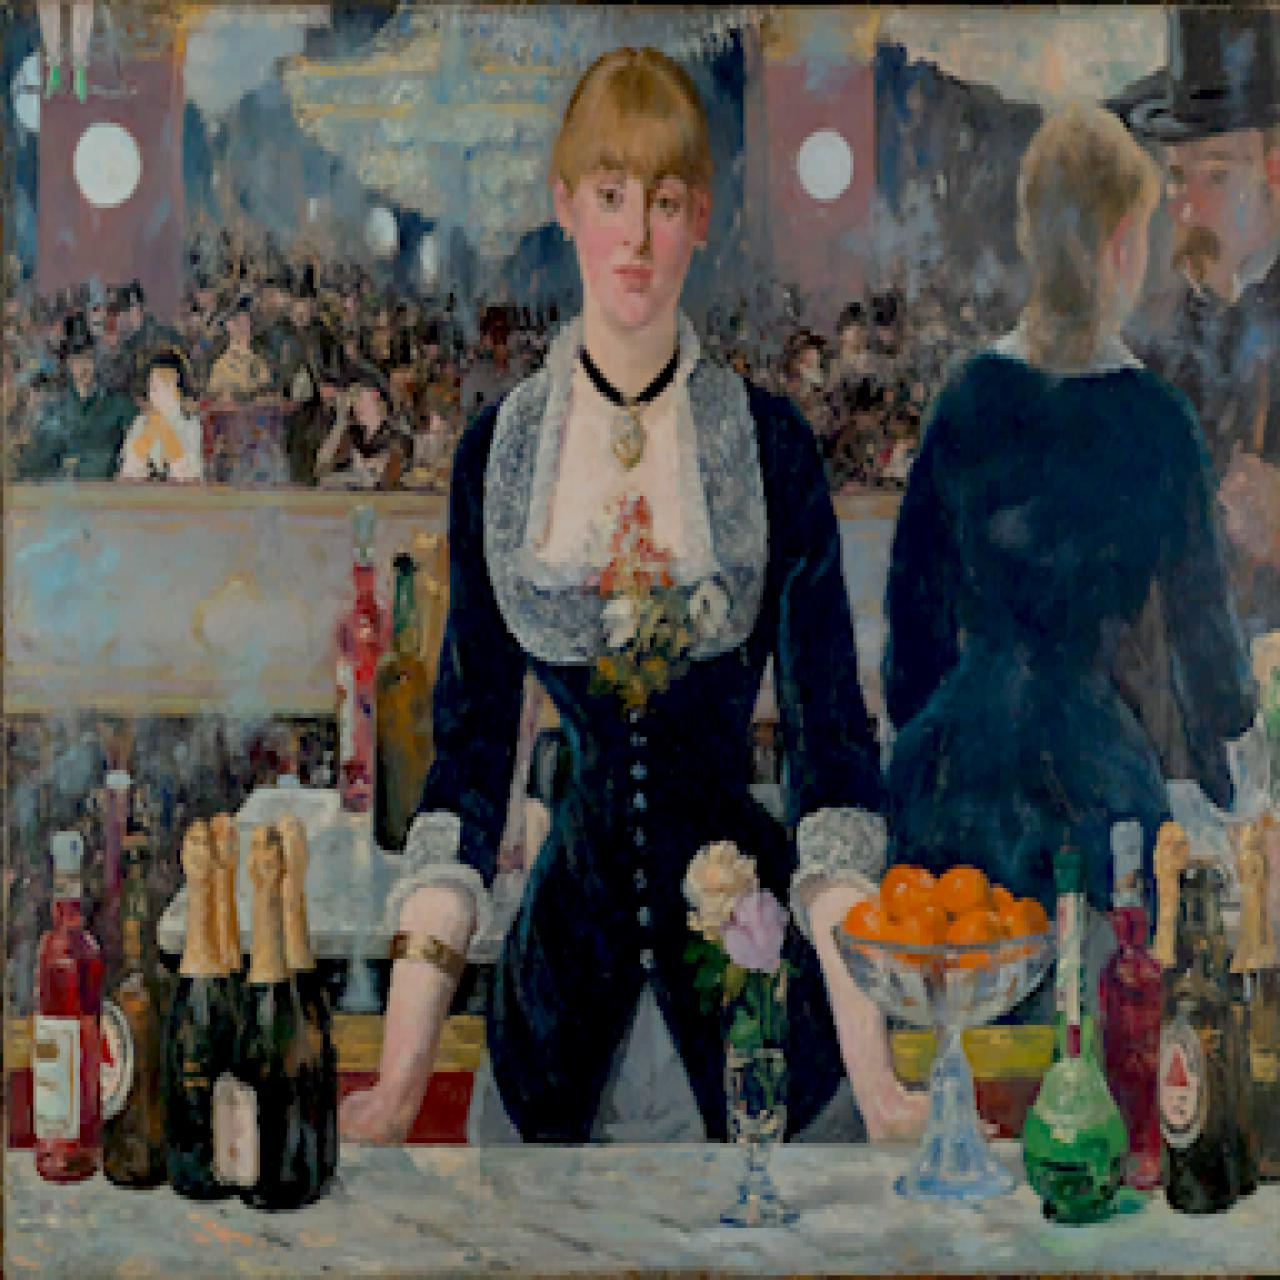BarFB: (1, 1, 1278, 1276)
